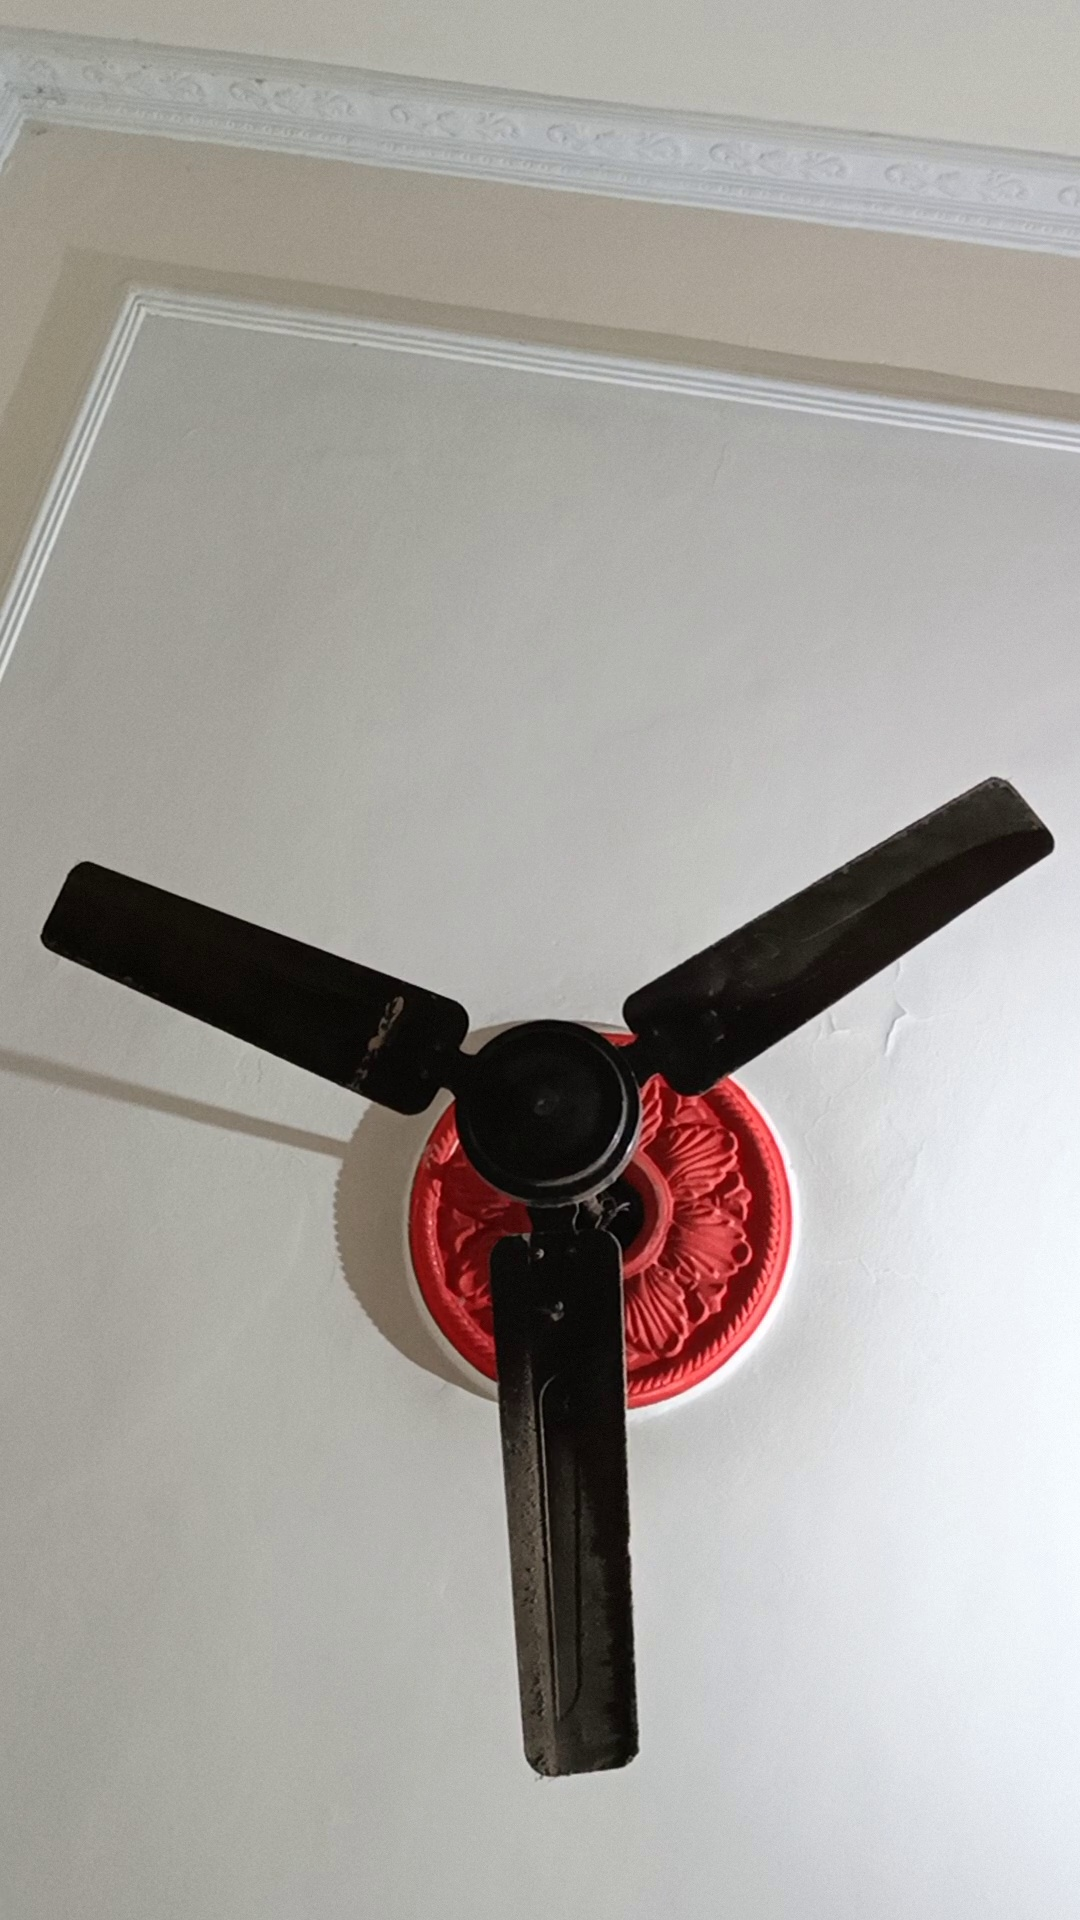fan: (40, 766, 1080, 1801)
